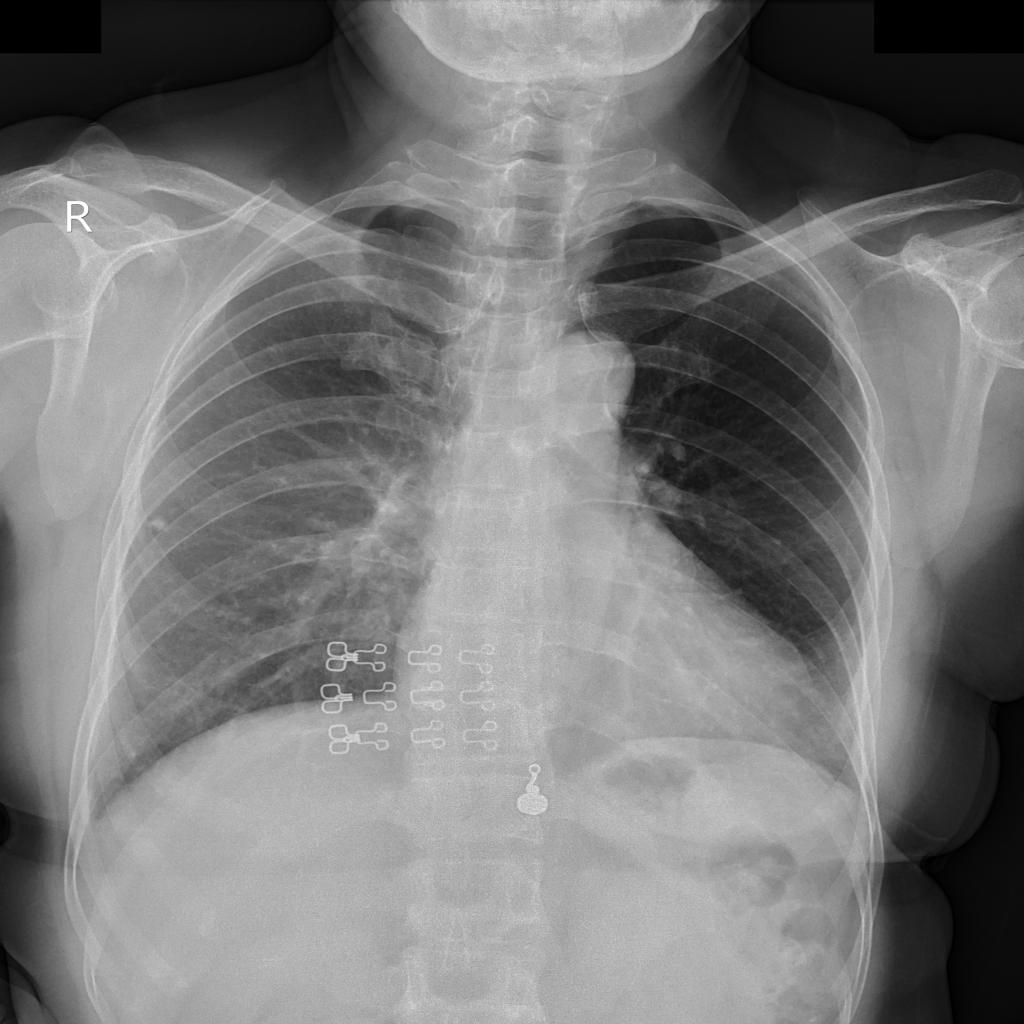Nodule: (150, 517, 170, 533)
